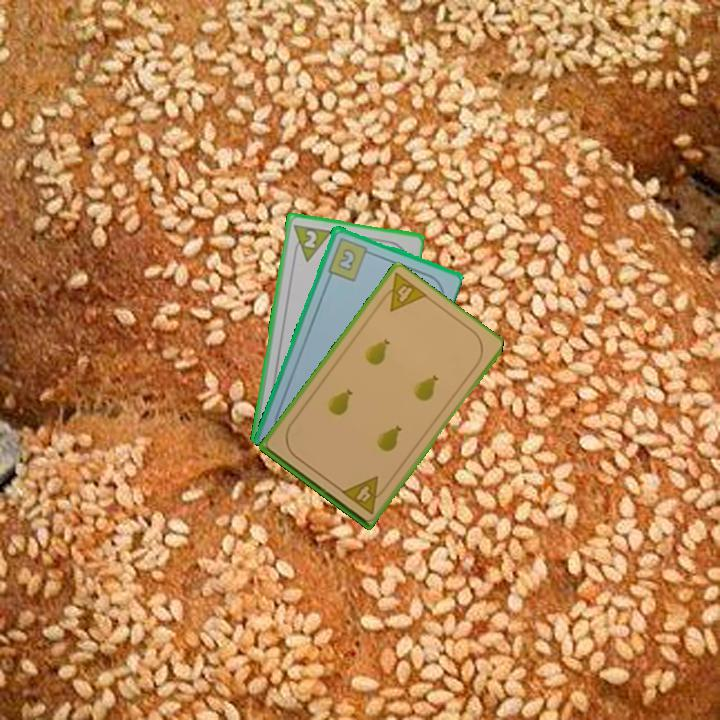2b: (324, 234, 375, 284)
2p: (289, 220, 334, 264)
4p: (374, 269, 430, 315), (338, 472, 390, 517)
